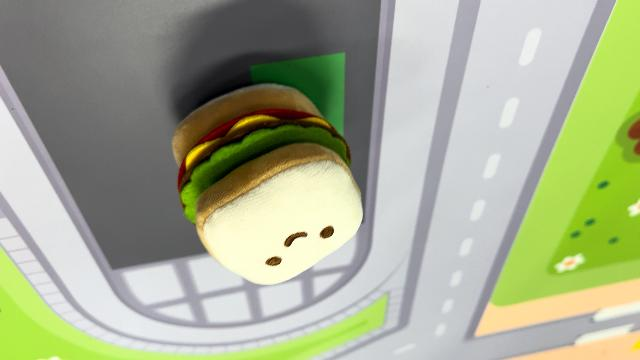sandwich: (168, 80, 368, 286)
